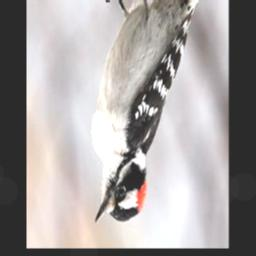Woodpecker: (89, 0, 208, 223)
